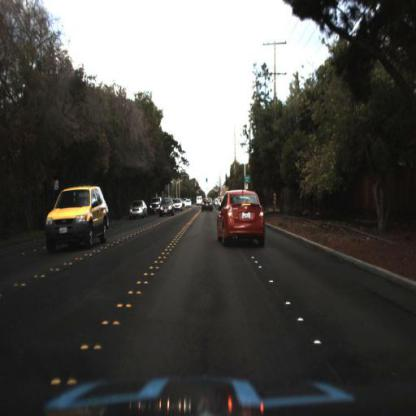car: (46, 186, 110, 256), (217, 186, 268, 250), (129, 197, 150, 223), (128, 201, 149, 223), (159, 196, 176, 218), (160, 199, 174, 218), (173, 195, 185, 215), (201, 197, 214, 215), (195, 194, 203, 209)
